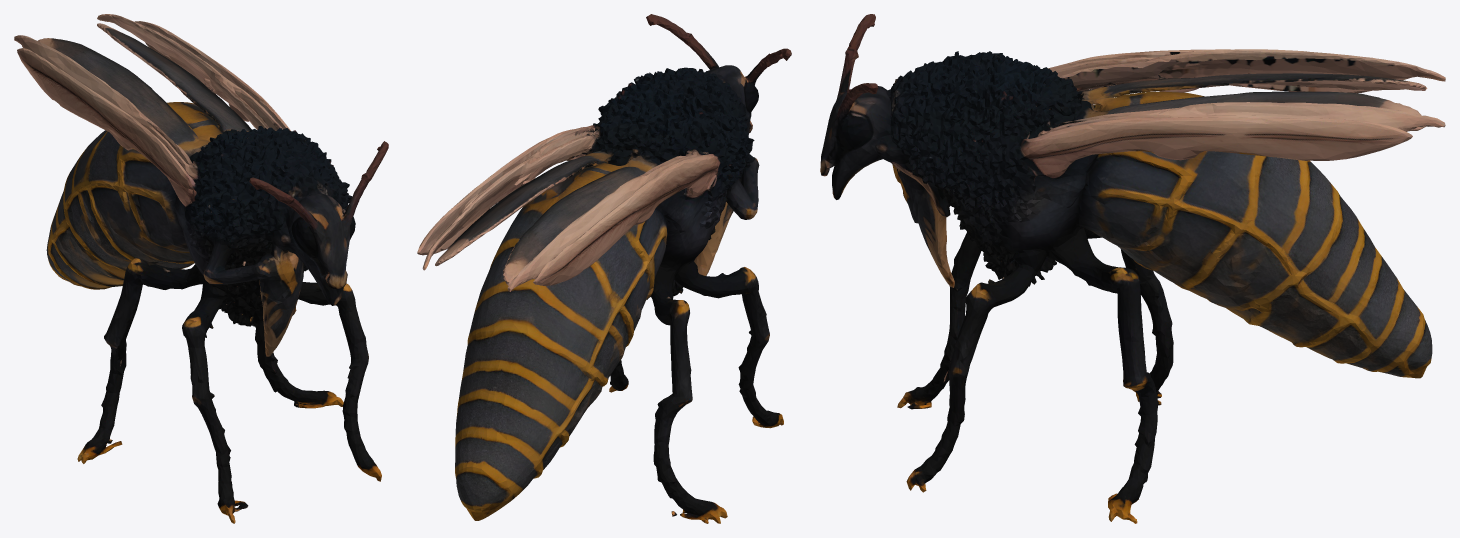
File: insect_armabee.glb
3 renders of one model, left to right at view 1: azimuth 30°, elevation 25°; view 2: azimuth 150°, elevation 25°; view 3: azimuth 270°, elevation 25°, orthographic. The views are drawn at different scales.
Parts seen in each view (by area): view 1: textured_mesh.obj; view 2: textured_mesh.obj; view 3: textured_mesh.obj.
Part boxes in pixels (<box>): textured_mesh.obj: <box>14,14,388,523</box>; textured_mesh.obj: <box>417,14,791,523</box>; textured_mesh.obj: <box>820,14,1445,523</box>.
Size of the model in its own units: 1.05 by 1.43 by 1.99.
Materials: 1 (1 with a texture image).
